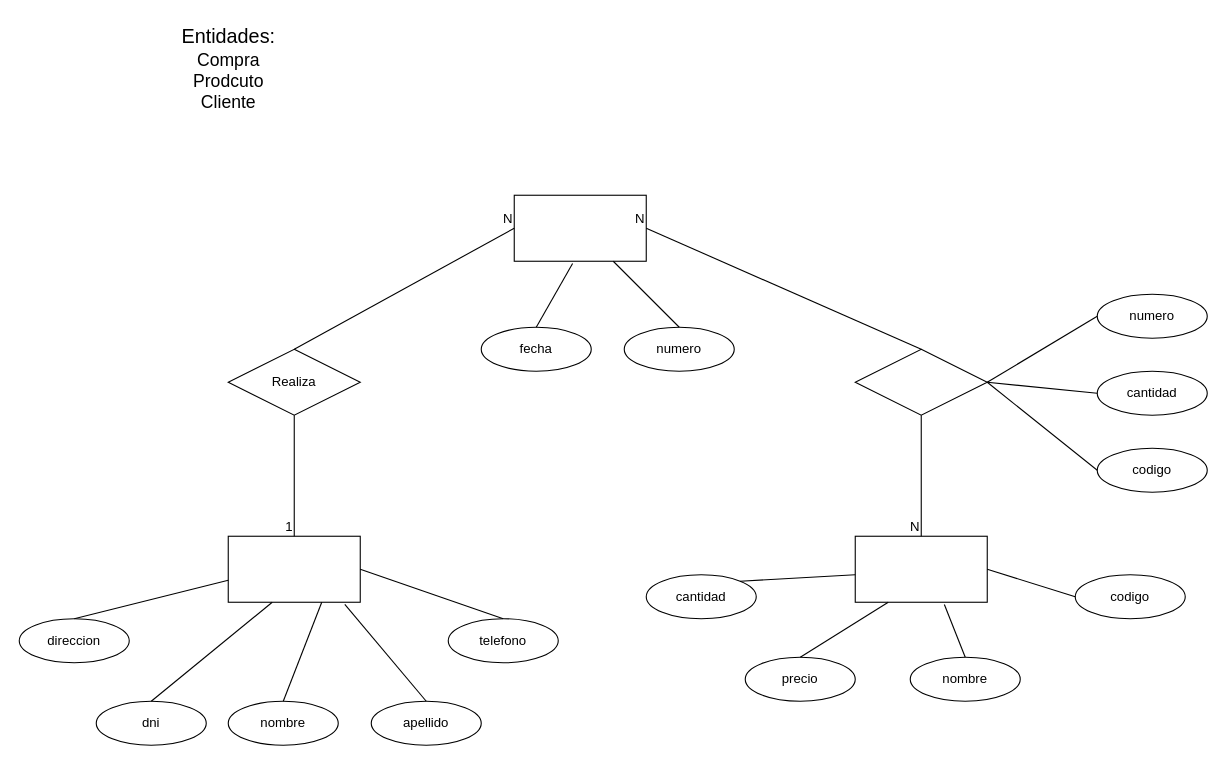
This 1227x765 diagram has some shape labels left out. Here are the shapes that lost their labels. From the top down, the box of each, then its label:
(513, 194, 646, 261): Compra
(854, 348, 987, 415): Tiene
(227, 535, 360, 602): Cliente
(854, 535, 987, 602): Producto
